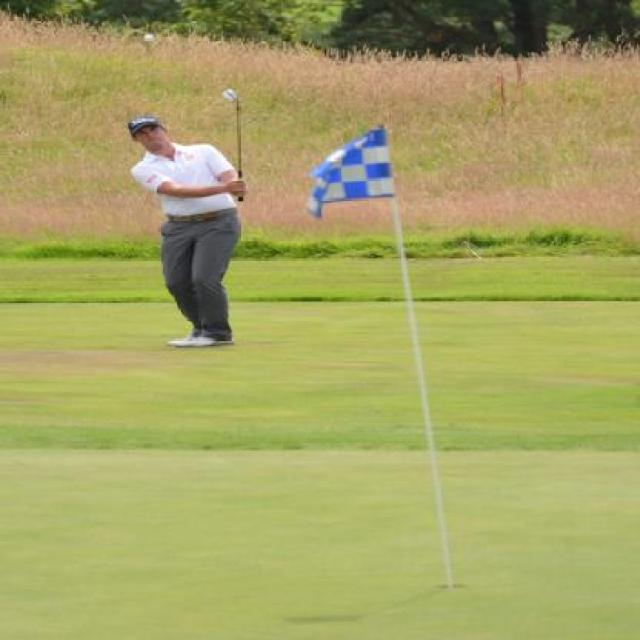club head: (220, 89, 240, 108)
